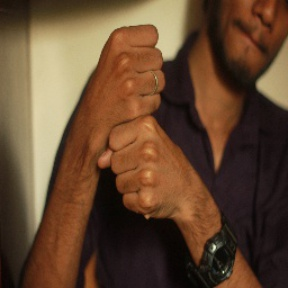G: (78, 18, 186, 230)
